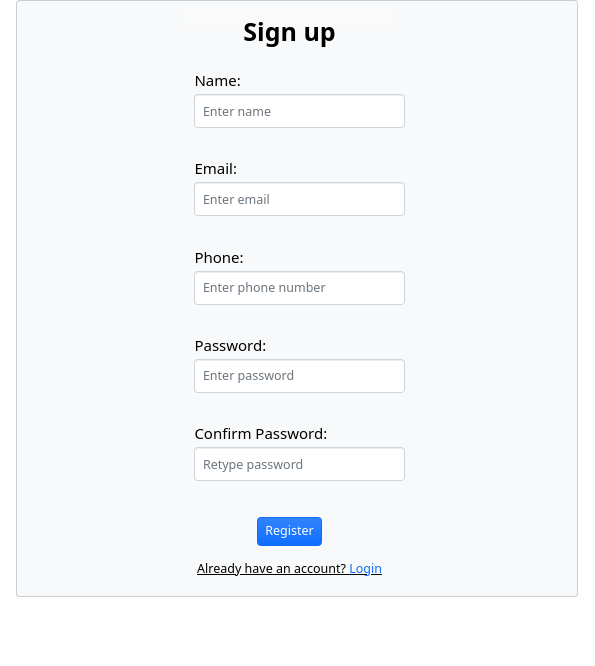
Scenario: Register › password verification
The image size is (595, 666).
Type "284" into the password field with test id "password" at [300, 376], box [194, 359, 405, 393]
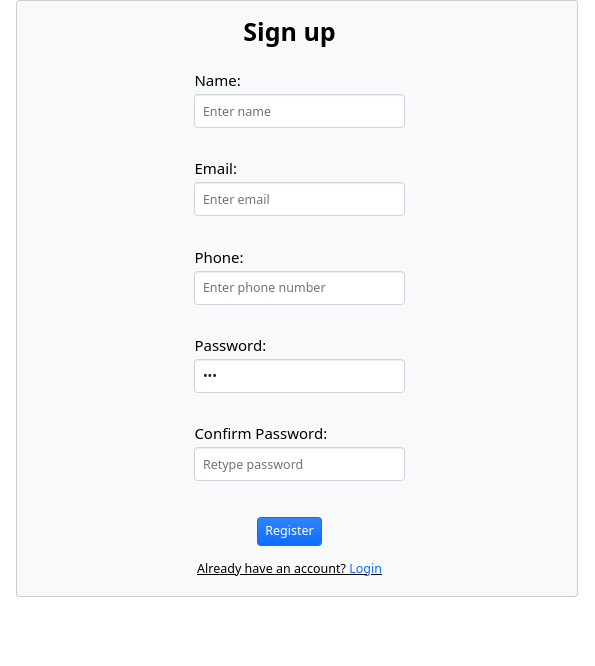
Leave the password field with test id "password", box [194, 359, 405, 393]
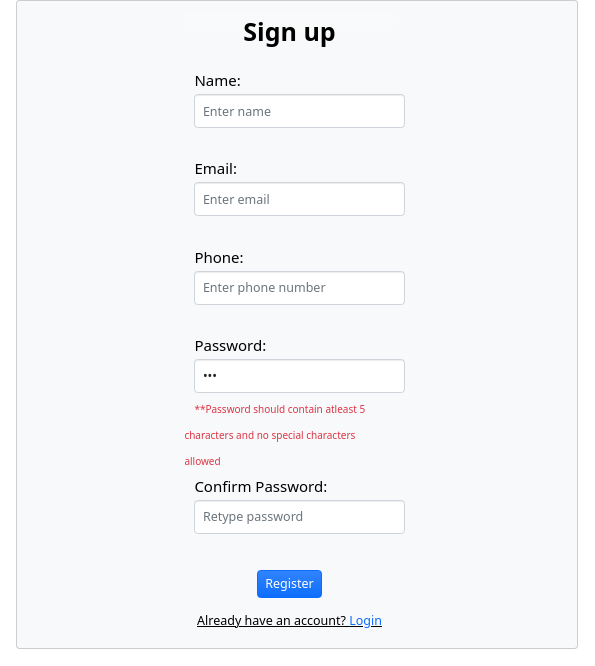
Now the text with test id "password_Error" is shown, box [184, 402, 365, 468]
